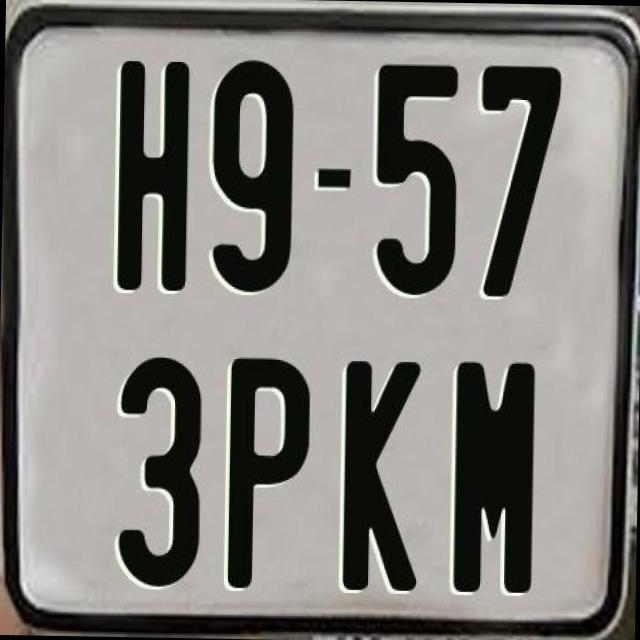3: (117, 352, 209, 584)
5: (372, 61, 458, 302)
7: (478, 61, 560, 302)
9: (207, 56, 294, 297)
H: (114, 61, 192, 296)
K: (342, 358, 422, 590)
M: (452, 356, 534, 596)
P: (224, 354, 310, 593)
